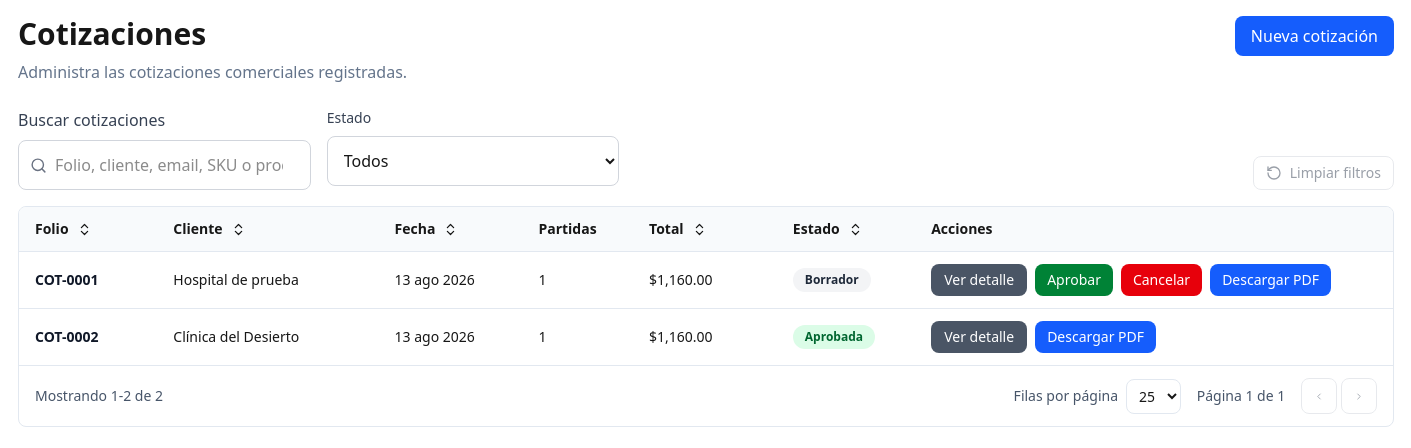
QuotesPage › busca por folio, cliente, email y producto, y muestra vacío contextual
The image size is (1411, 448).
Check: the text "COT-0001" is shown, box [35,270,98,289]
Type "  cot-0002  " into the search field labelled "Buscar cotizaciones". click: (164, 165)
box: [18,140,311,190]
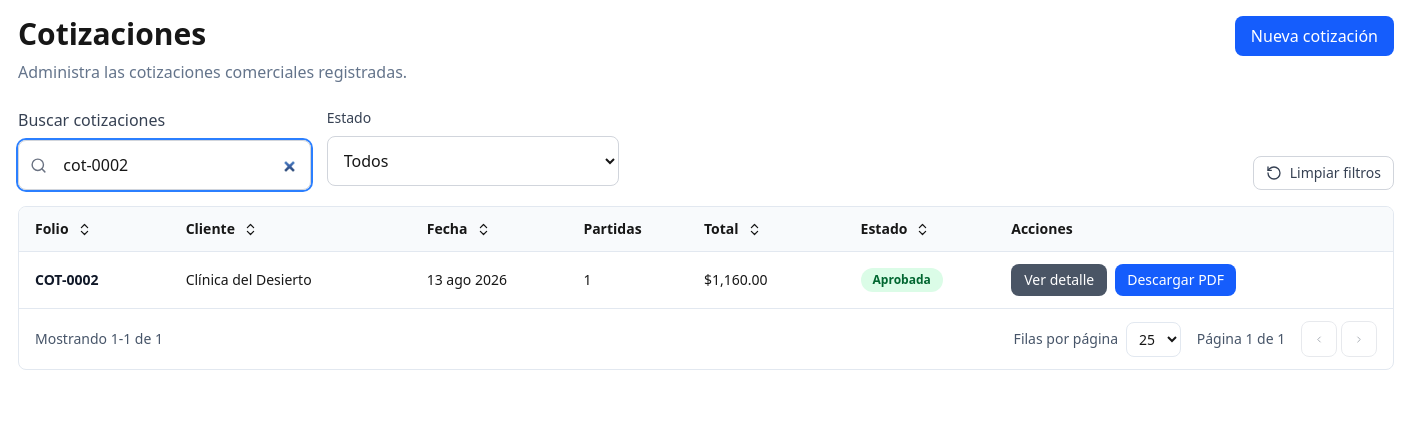
Check: the text "COT-0002" is shown, box [35,270,98,289]
Check: the text "COT-0001" is gone
Replace the text in the search field labelled "Buscar cotizaciones" with "CLÍNICA DEL DESIERTO". click: (164, 165)
box: [18,140,311,190]
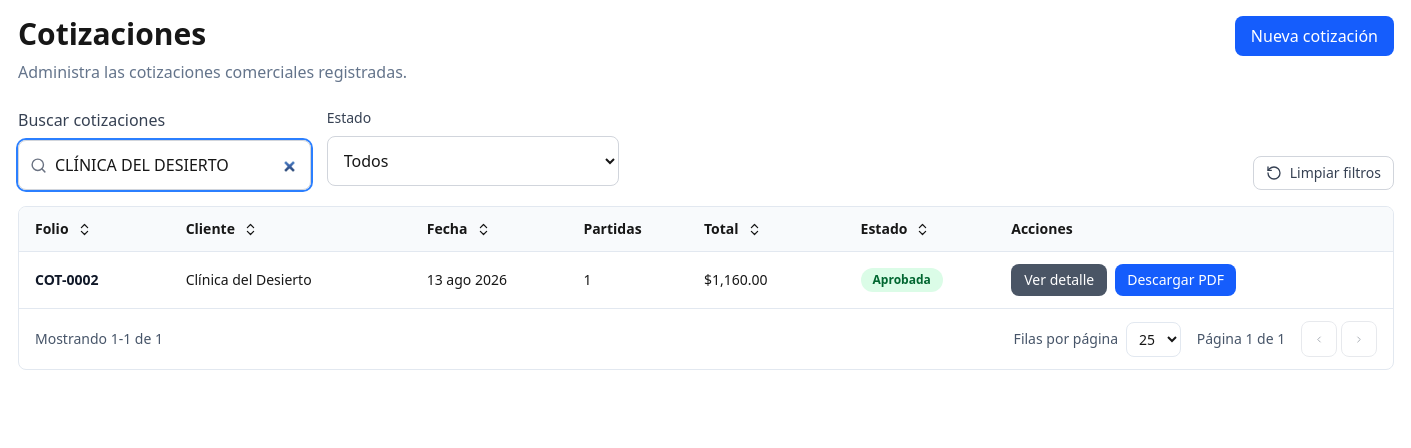
Check: the text "COT-0002" is shown, box [35,270,98,289]
Check: the text "COT-0001" is not shown
Replace the text in the search field labelled "Buscar cotizaciones" with "compras@desierto.test". click: (164, 165)
box: [18,140,311,190]
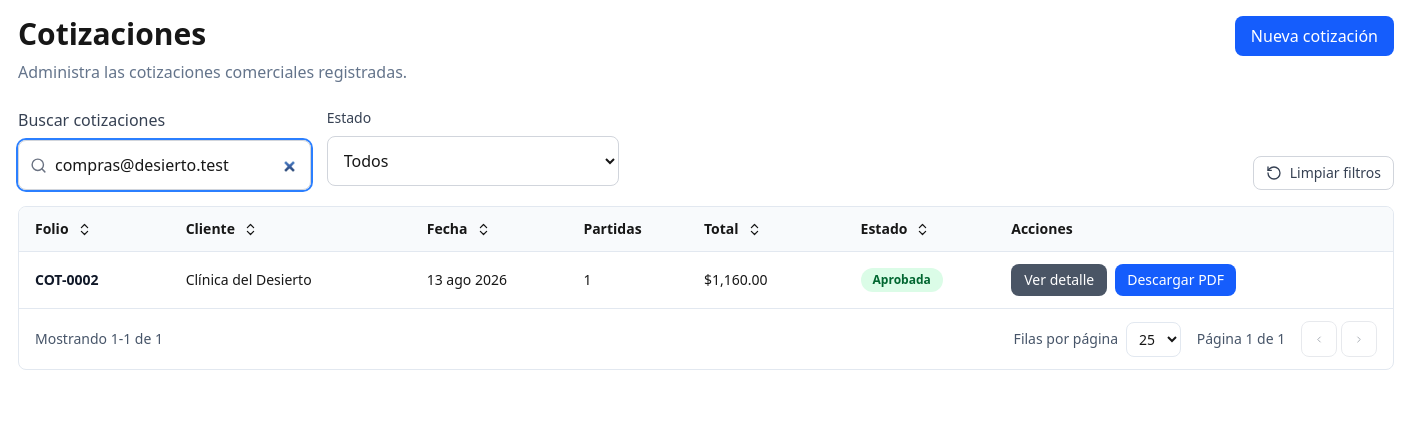
Check: the text "COT-0002" is shown, box [35,270,98,289]
Check: the text "COT-0001" is not shown
Replace the text in the search field labelled "Buscar cotizaciones" with "rx-200". click: (164, 165)
box: [18,140,311,190]
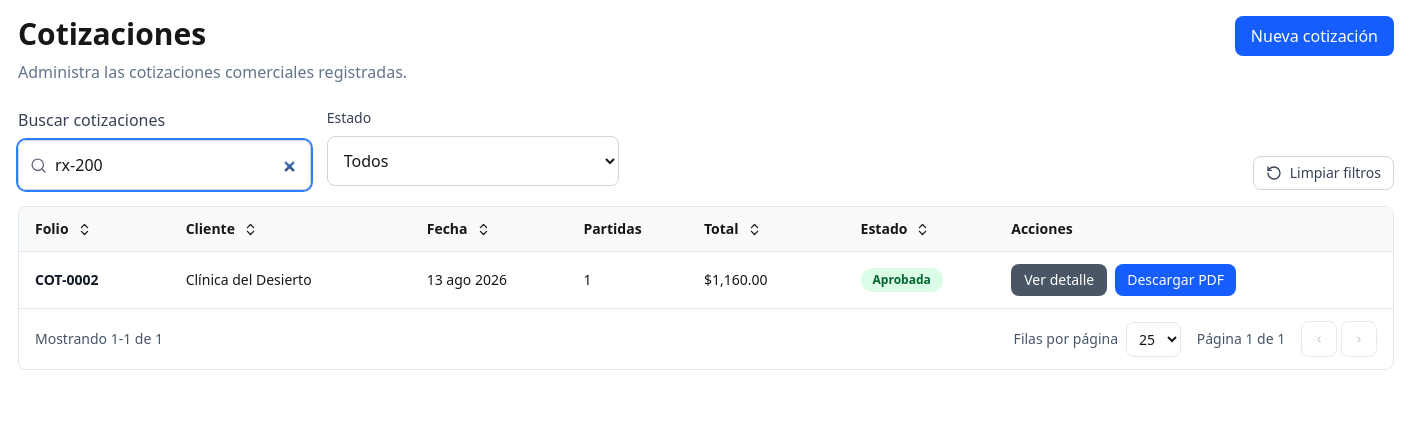
Check: the text "COT-0002" is shown, box [35,270,98,289]
Check: the text "COT-0001" is not shown
Replace the text in the search field labelled "Buscar cotizaciones" with "REACTIVO ESPECIALIZADO". click: (164, 165)
box: [18,140,311,190]
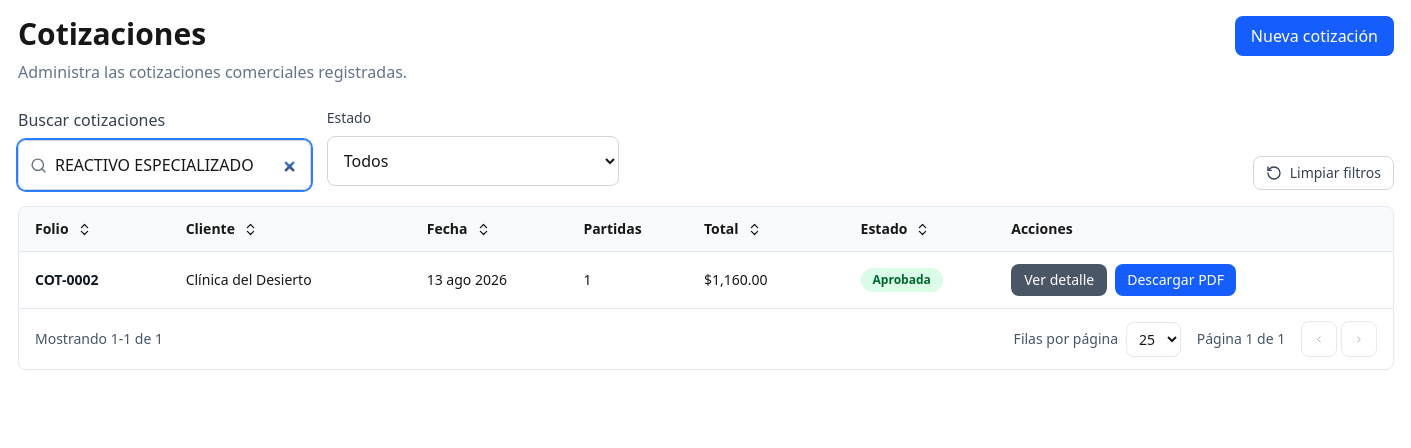
Check: the text "COT-0002" is shown, box [35,270,98,289]
Check: the text "COT-0001" is not shown
Replace the text in the search field labelled "Buscar cotizaciones" with "sin coincidencias". click: (164, 165)
box: [18,140,311,190]
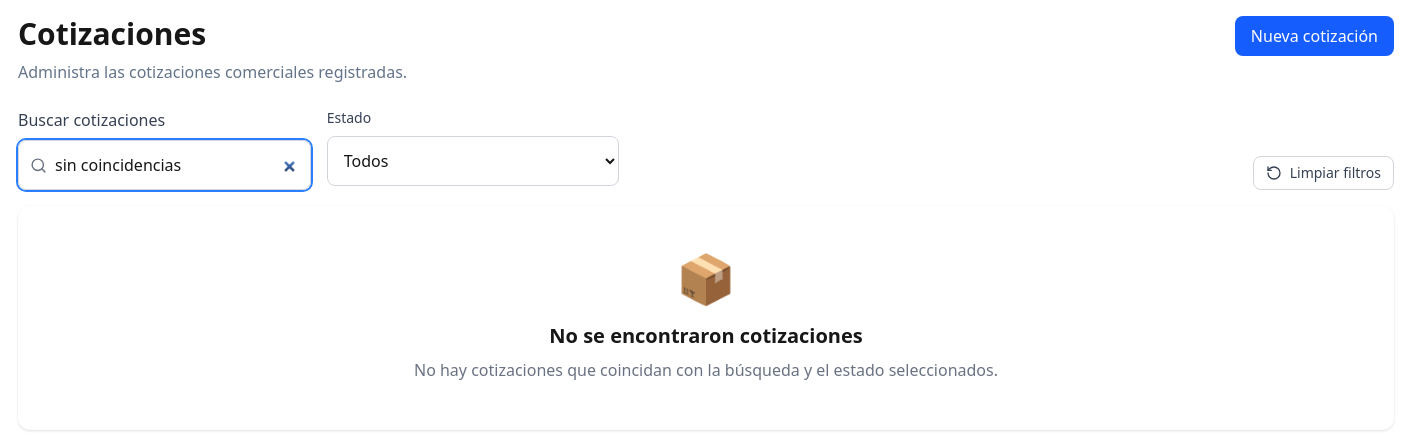
Check: the heading "No se encontraron cotizaciones" is shown, box [549,322,863,349]
Check: the text "No hay cotizaciones que coincidan con la búsqueda y el estado seleccionados." is shown, box [414,359,998,381]
